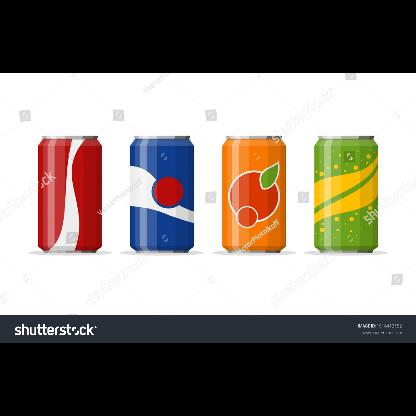Tin_Can: (127, 132, 199, 258), (218, 132, 290, 258), (312, 132, 382, 254), (36, 133, 102, 259)
